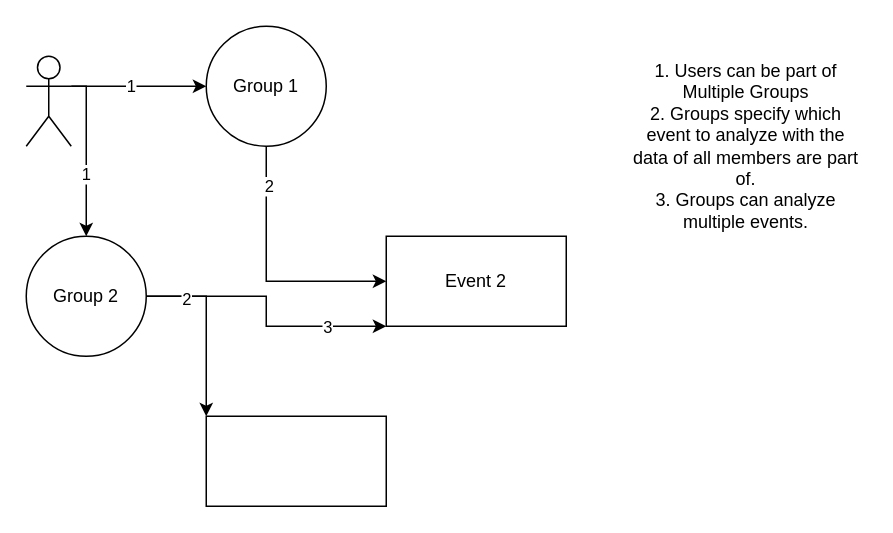
Some shapes in this 893 by 533 pixel diagram are drawn without their labels. The shapes that lost their labels are listed below. From the top down, each one's centre as x and y in pixels, then its label:
At pixel 48 100: "Actor".
At pixel 295 460: "Event 1".
